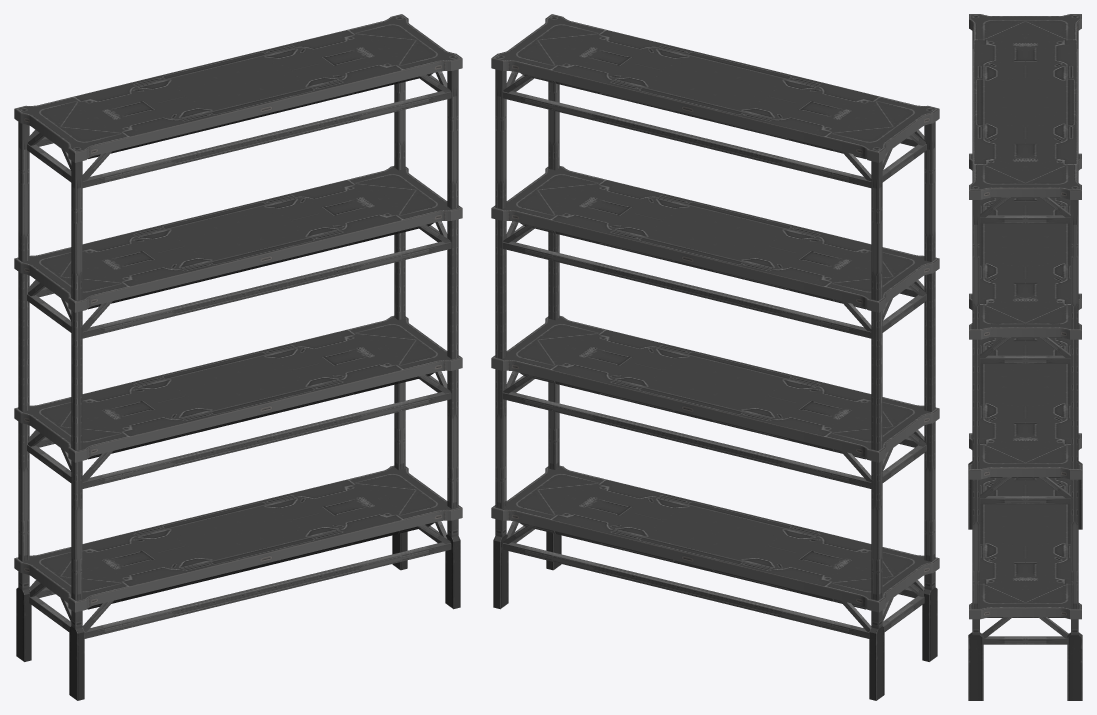
The model's file is q-scifi-ess-prop-shelves-widetall.glb.
3 renders of one model, left to right at view 1: azimuth 30°, elevation 25°; view 2: azimuth 150°, elevation 25°; view 3: azimuth 270°, elevation 25°, orthographic. The views are drawn at different scales.
Parts seen in each view (by area): view 1: Prop_Shelves_WideTall; view 2: Prop_Shelves_WideTall; view 3: Prop_Shelves_WideTall.
Part boxes in pixels (x1=…): Prop_Shelves_WideTall: x1=14, y1=14, x2=462, y2=700; Prop_Shelves_WideTall: x1=491, y1=14, x2=939, y2=700; Prop_Shelves_WideTall: x1=968, y1=14, x2=1082, y2=700.
Bounding box in the file's own units: 1.98 × 2.67 × 0.5407.
1 material, 1 textured.
